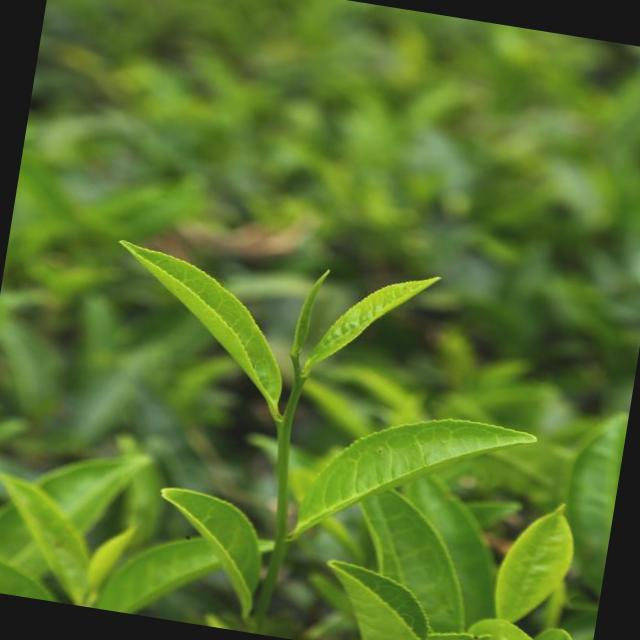Stem: (277, 422, 290, 458)
